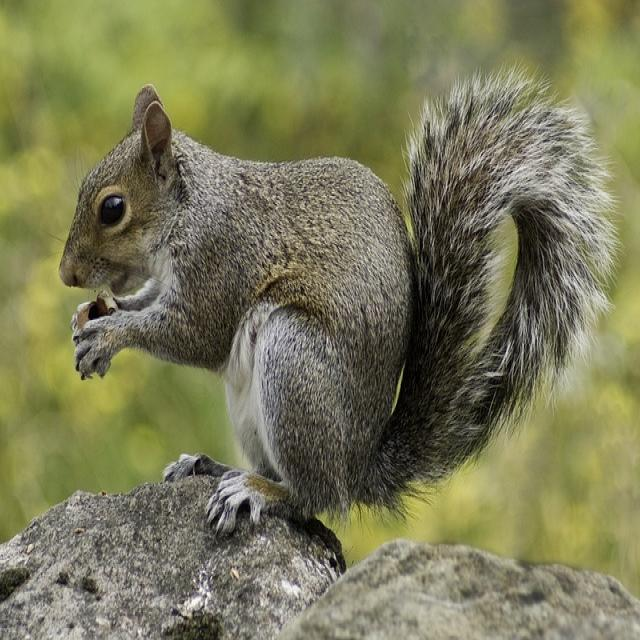Herbivorous: (58, 67, 626, 533)
